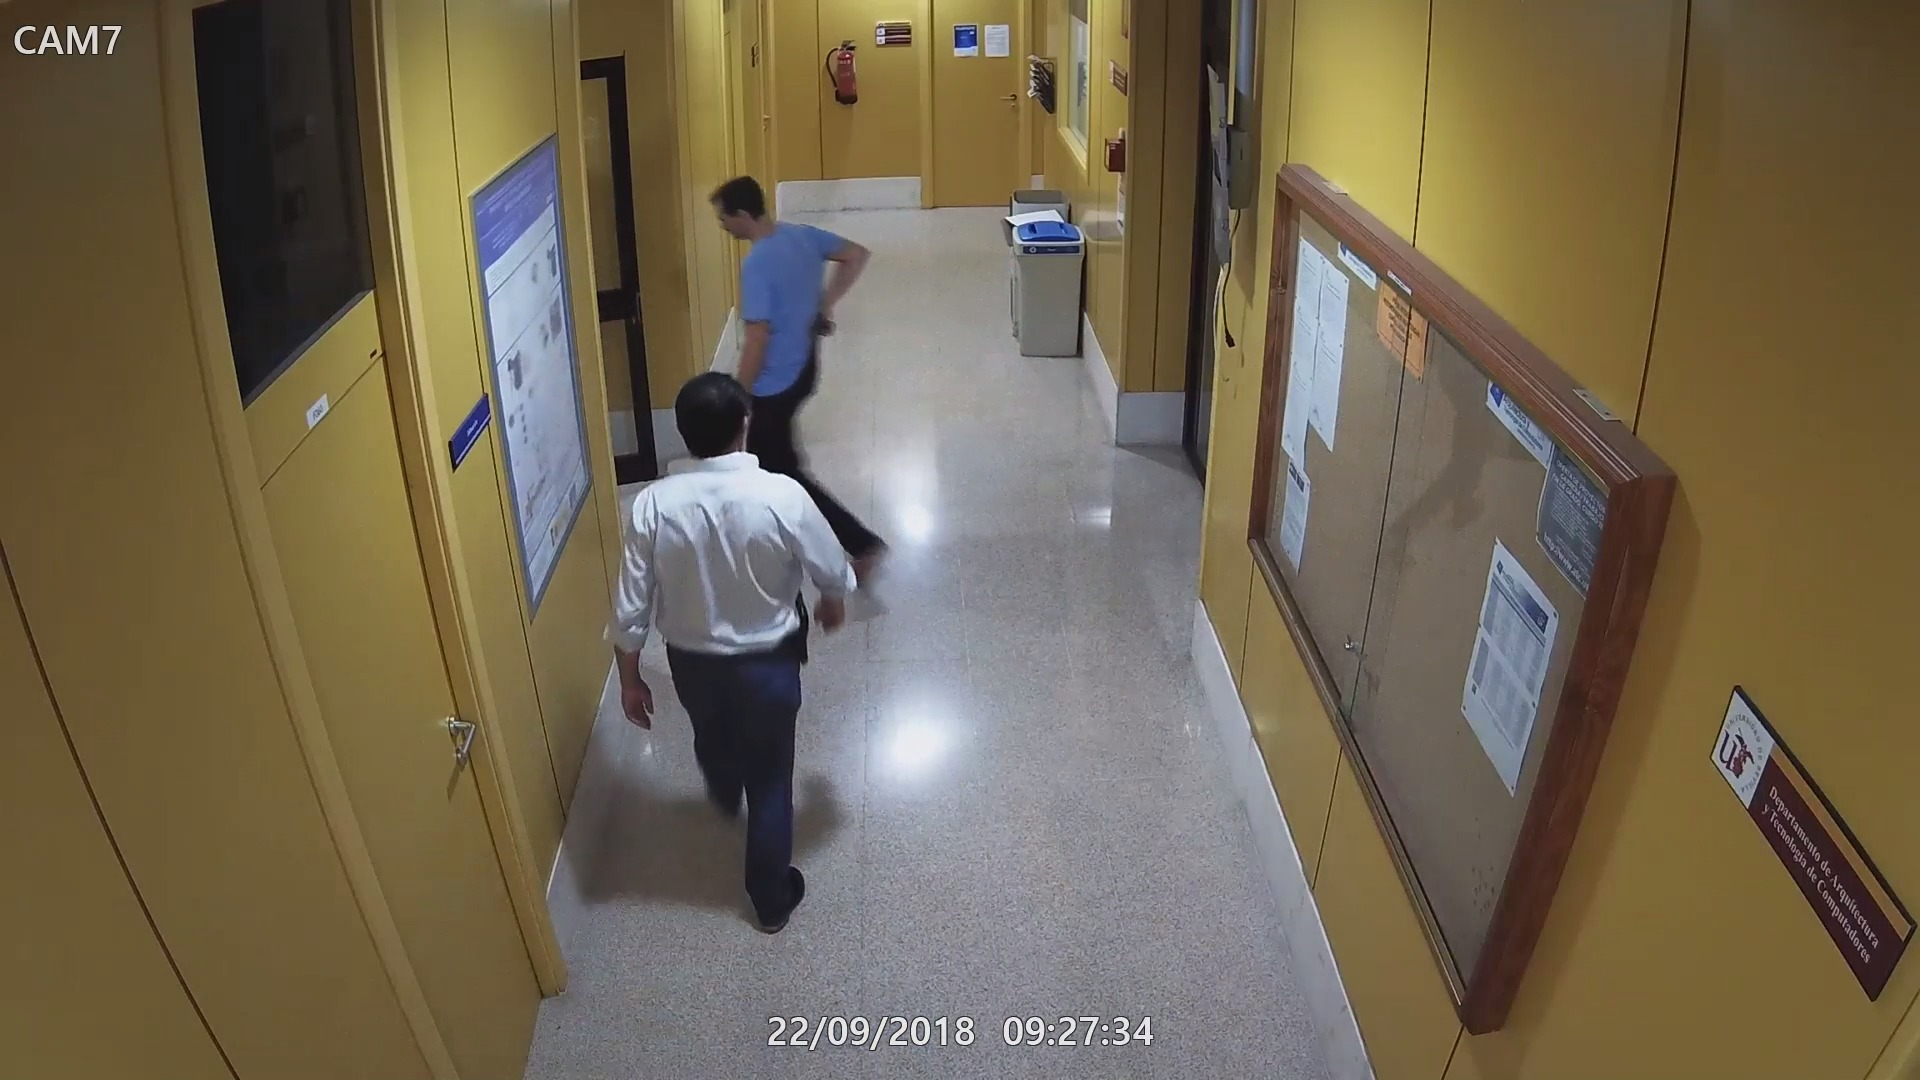Handgun: (810, 310, 837, 345)
